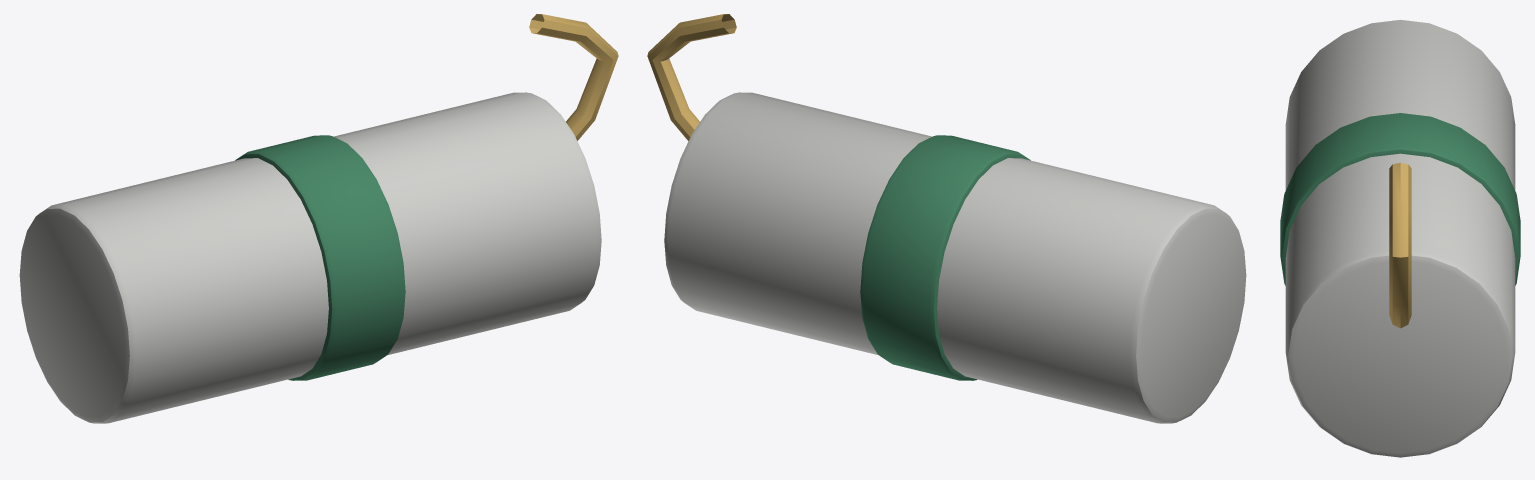
The model's file is checkout_product_towel_roll.glb.
3 renders of one model, left to right at view 1: azimuth 30°, elevation 25°; view 2: azimuth 150°, elevation 25°; view 3: azimuth 270°, elevation 25°, orthographic.
Parts seen in each view (by area): view 1: TowelRoll, TowelBand, TowelLoop; view 2: TowelRoll, TowelBand, TowelLoop; view 3: TowelRoll, TowelBand, TowelLoop.
Boxes of the visible parts, left/top/right/bottom form: TowelRoll: left=19, top=92, right=601, bottom=423; TowelBand: left=235, top=135, right=405, bottom=380; TowelLoop: left=529, top=14, right=618, bottom=140; TowelRoll: left=664, top=92, right=1246, bottom=423; TowelBand: left=860, top=135, right=1030, bottom=380; TowelLoop: left=647, top=14, right=736, bottom=140; TowelRoll: left=1285, top=20, right=1515, bottom=457; TowelBand: left=1280, top=113, right=1520, bottom=285; TowelLoop: left=1389, top=162, right=1411, bottom=328.
Bounding box in the file's own units: 0.2289 × 0.1183 × 0.086.
